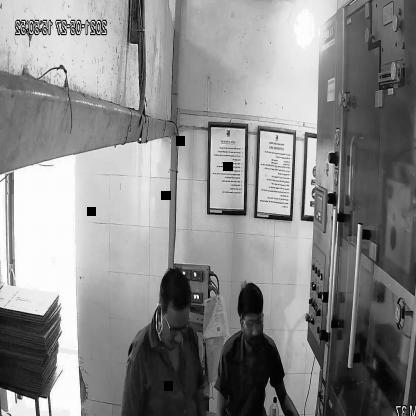goggles: (239, 310, 266, 331)
